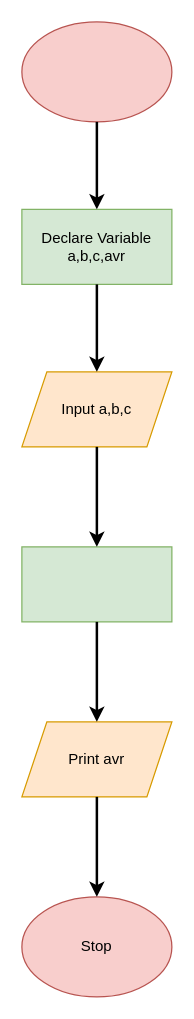
Some shapes in this 194 by 1019 pixel diagram are drawn without their labels. Here are the shapes that lost their labels. From the top down, the centre of each, then its label:
the point at 96,71: Start
the point at 96,584: avr = (a + b + c)/3
